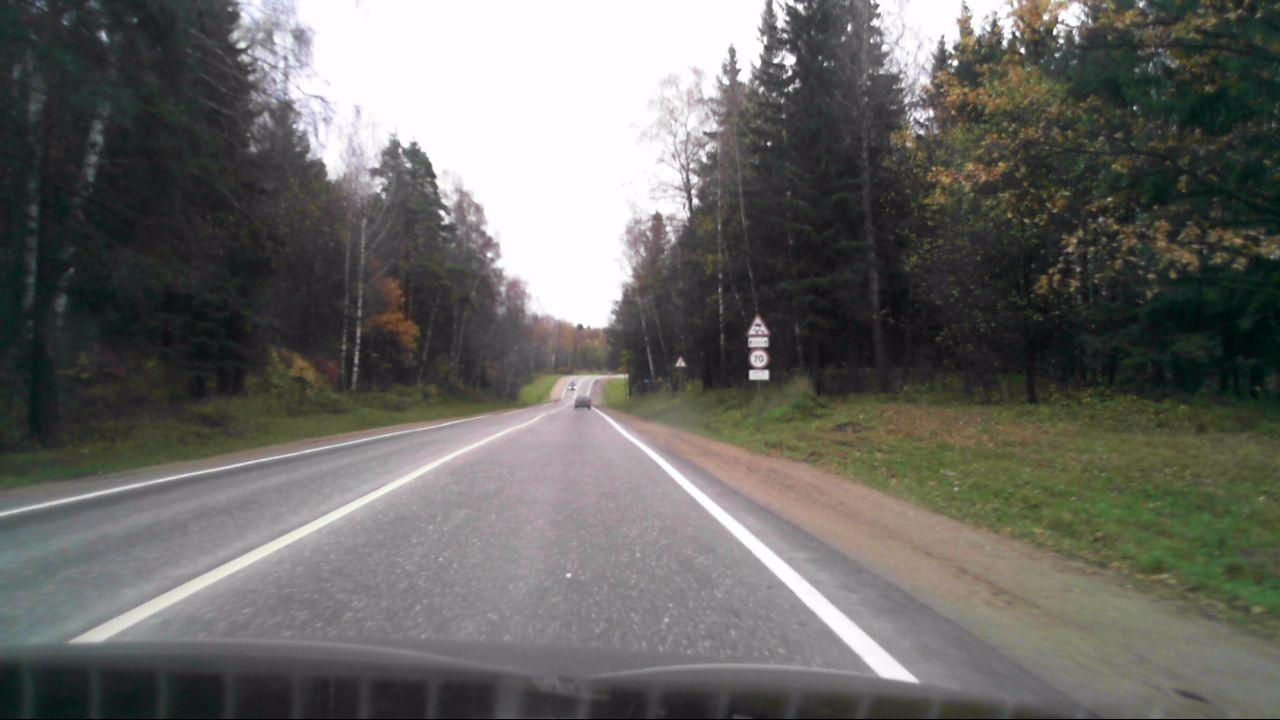1_11_1: (674, 356, 687, 367)
1_15: (746, 313, 770, 335)
3_24: (747, 349, 771, 368)
8_2_1: (748, 337, 770, 348)
